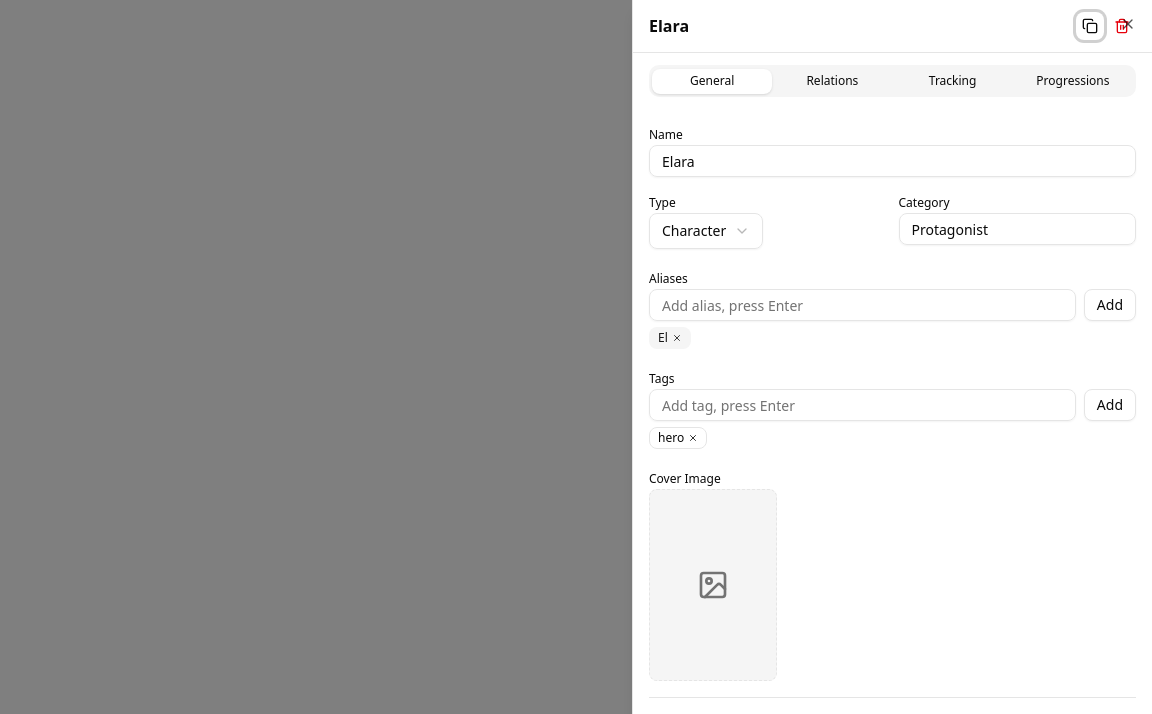
EntryEditor — edit mode tabs › Relations tab: shows empty state when no relations
The width and height of the screenshot is (1152, 714).
Step 1. Click the tab "Relations" → click(832, 81), box top-left (772, 68), bottom-right (893, 94)
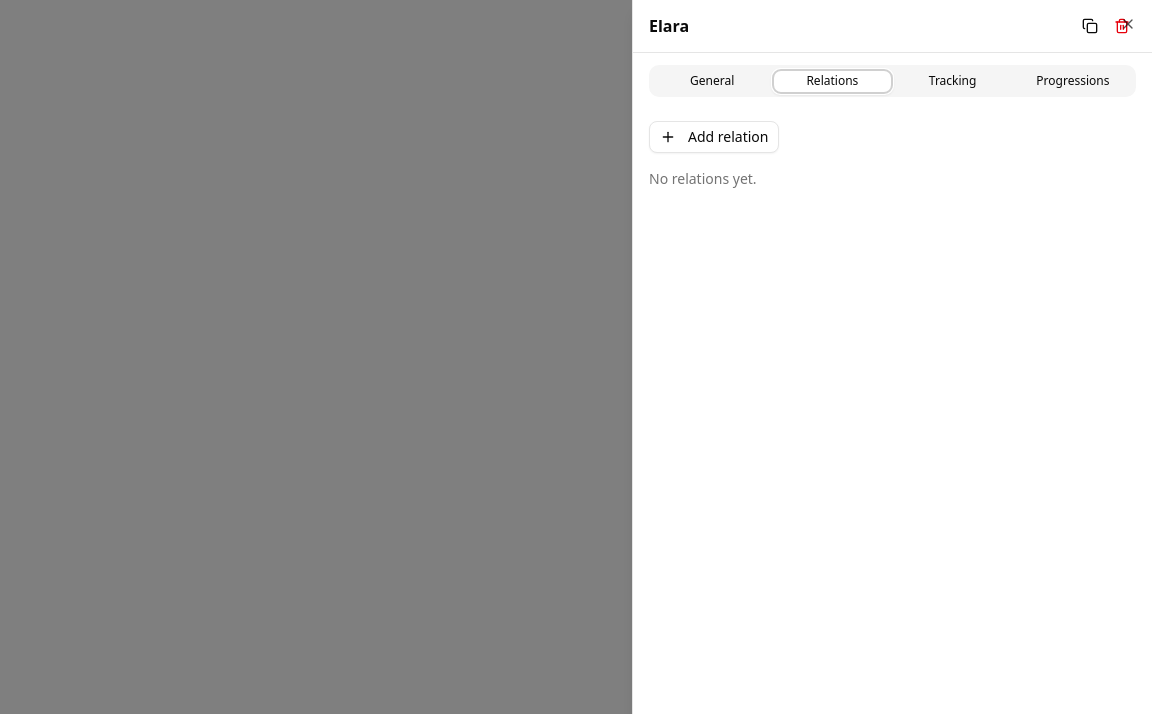
Now the text "No relations yet." is shown, box top-left (649, 169), bottom-right (757, 188)
